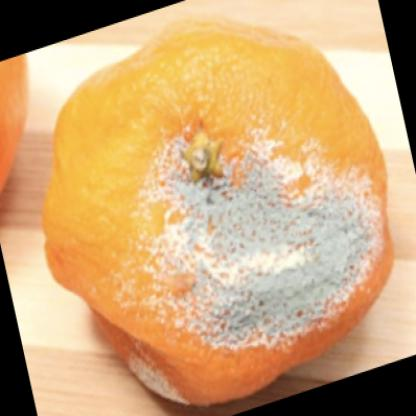rotten: (49, 24, 398, 406)
